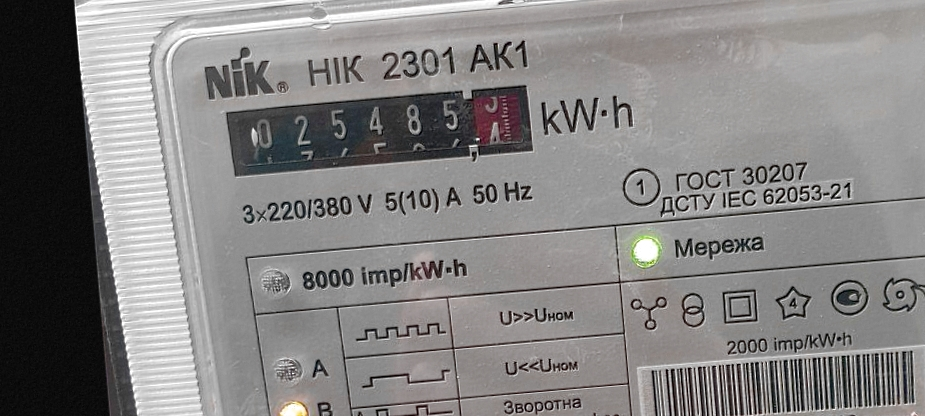0: (252, 115, 276, 152)
2: (291, 112, 314, 148)
4: (364, 102, 387, 138), (484, 118, 506, 148)
5: (438, 96, 462, 135), (327, 106, 350, 142)
8: (402, 99, 426, 139)
screen: (216, 76, 543, 189)
